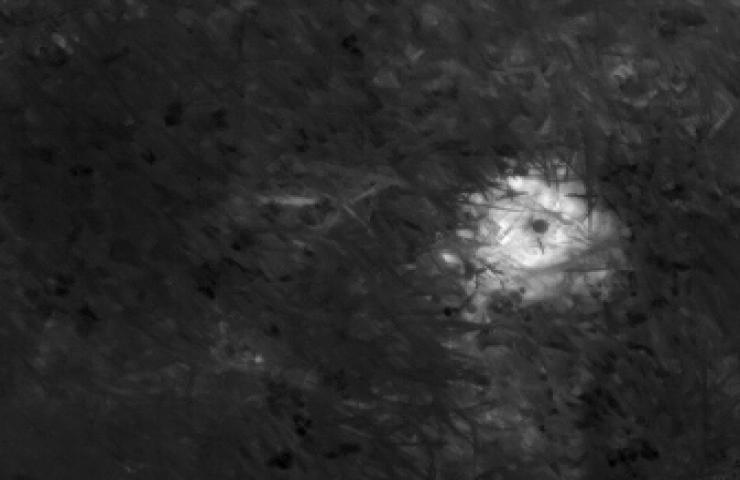landmines: (456, 161, 627, 304)
